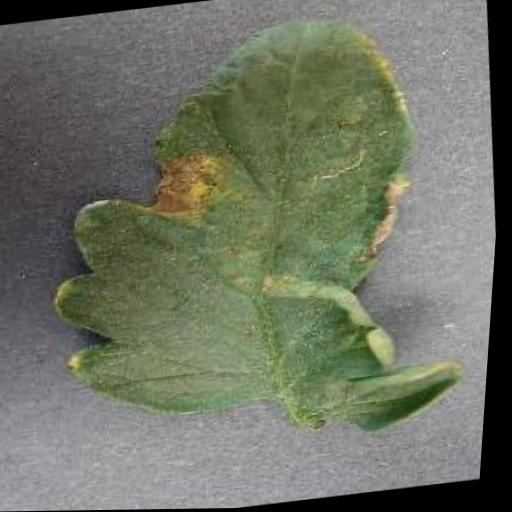Bacterial Spot: (11, 0, 502, 480)
